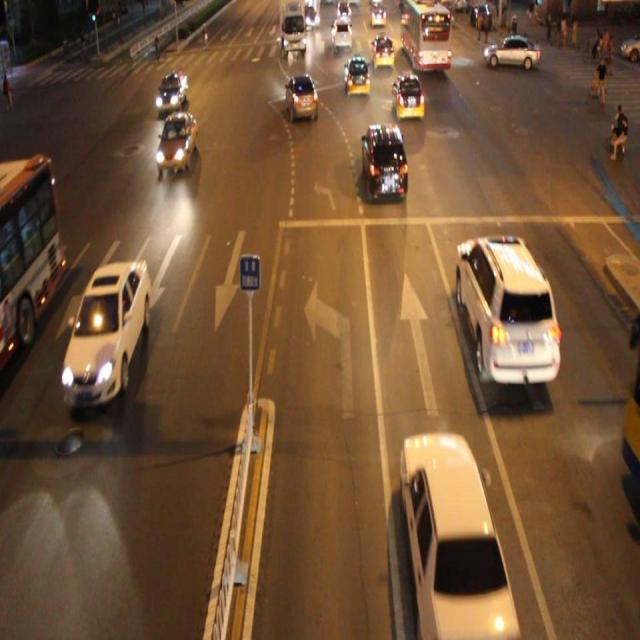car: (400, 431, 518, 640), (456, 232, 559, 382), (62, 260, 152, 406), (362, 122, 407, 200), (153, 112, 198, 170), (286, 72, 318, 121), (391, 74, 424, 120), (154, 70, 189, 111), (343, 55, 370, 96)
van: (1, 157, 64, 367)
